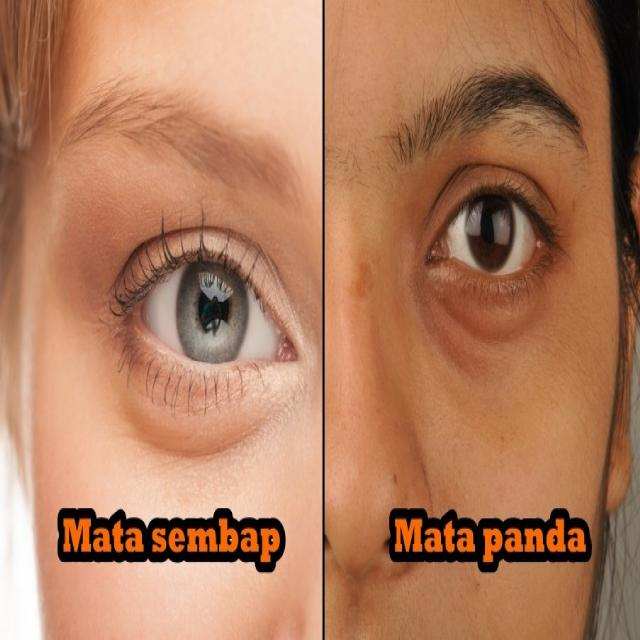Eyebags: (398, 168, 576, 386)
